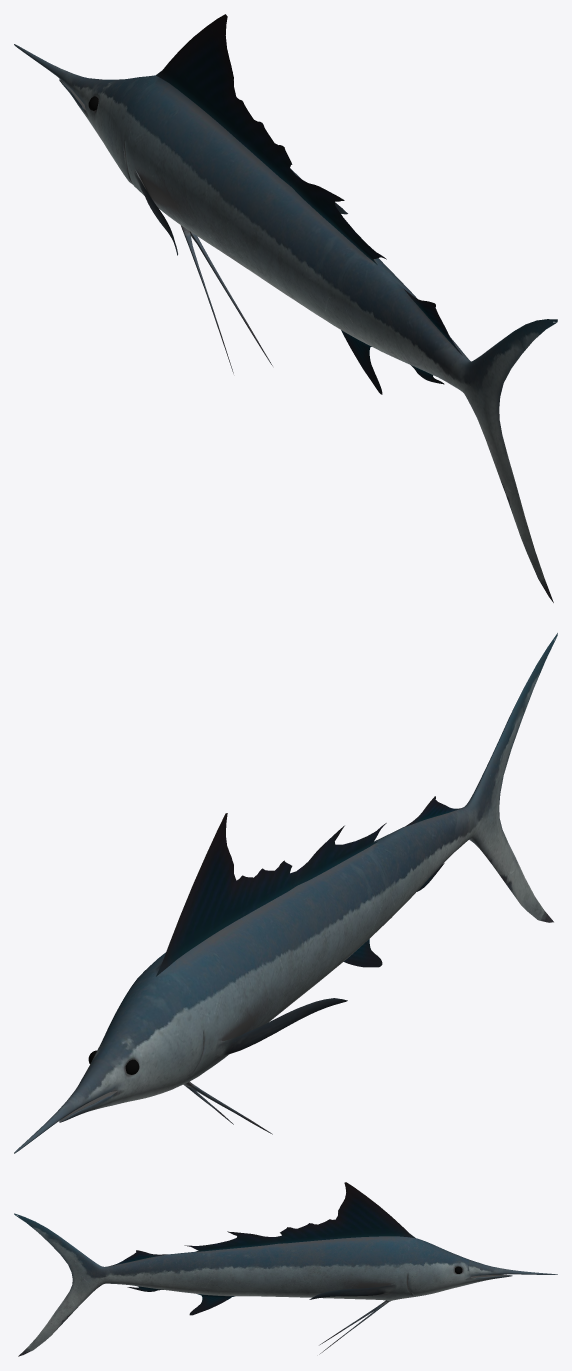
Rendered from marlin.glb.
3 renders of one model, top to bottom at view 1: azimuth 30°, elevation 25°; view 2: azimuth 150°, elevation 25°; view 3: azimuth 270°, elevation 25°, orthographic. The views are drawn at different scales.
Parts seen in each view (by area): view 1: Object_2; view 2: Object_2; view 3: Object_2.
Boxes of the visible parts, box(x1,y1,x2,y2) form: Object_2: box(14, 14, 557, 602); Object_2: box(14, 633, 557, 1153); Object_2: box(14, 1182, 557, 1356).
Size of the model in its own units: 0.4539 by 0.8855 by 2.5.
Materials: 1 (1 with a texture image).
